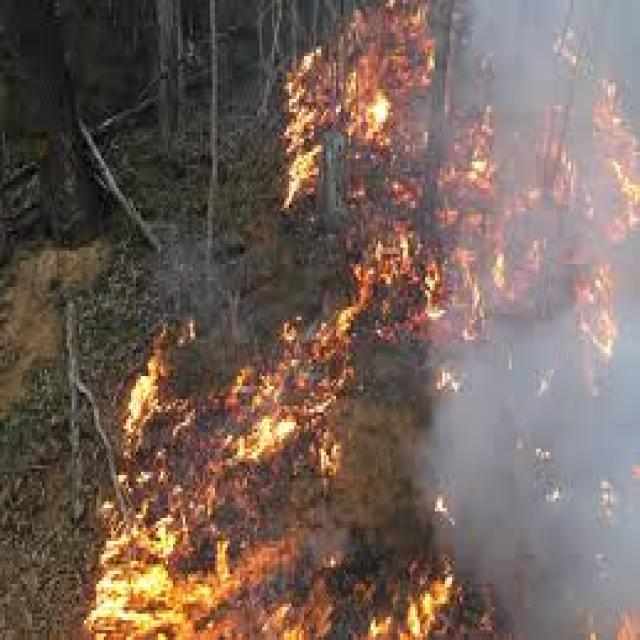Fire: (80, 323, 460, 640), (282, 9, 640, 337)
Smoke: (426, 333, 640, 639)
